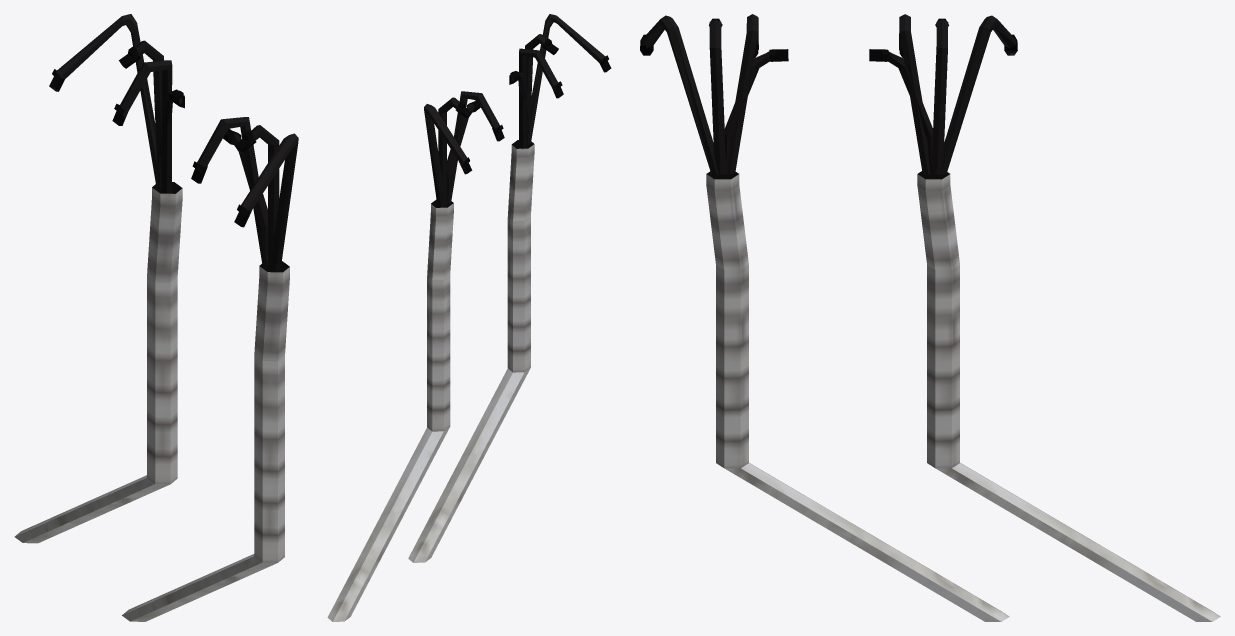
Rendered from Cabel_Incorrect.FBX.
The picture shows the model from 3 angles, left to right: view 1: azimuth 30°, elevation 25°; view 2: azimuth 150°, elevation 25°; view 3: azimuth 270°, elevation 25°; orthographic projection. The views are drawn at different scales.
Parts seen in each view (by area): view 1: Object543; view 2: Object543; view 3: Object543.
Boxes of the visible parts, <box> form: Object543: <box>14,14,298,621</box>; Object543: <box>327,14,611,621</box>; Object543: <box>640,14,1220,621</box>.
Bounding box in the file's own units: 94.76 × 631 × 559.
